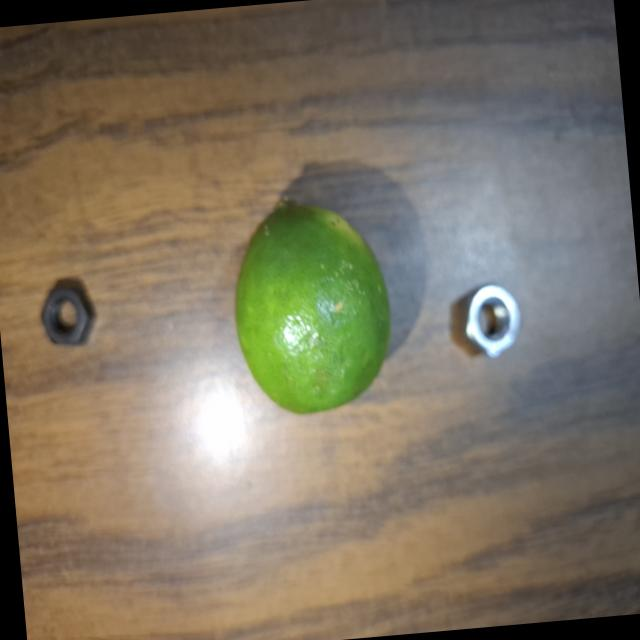limon: (216, 186, 404, 424)
milimetrico: (31, 273, 107, 355)
tuerca: (452, 275, 534, 366)
